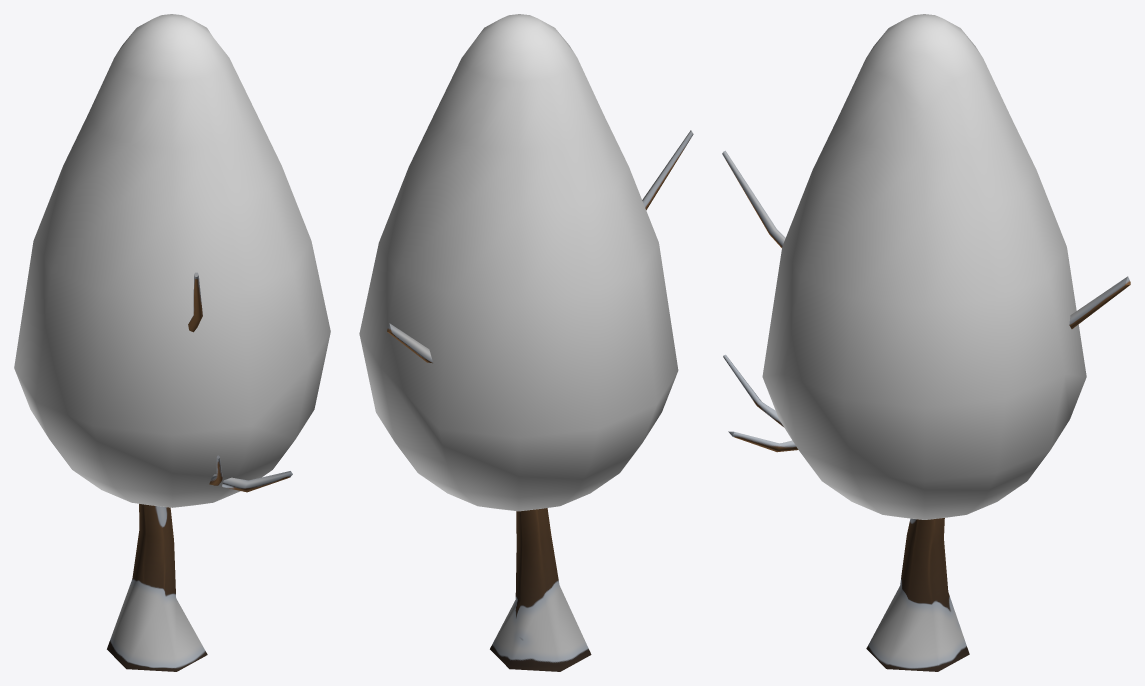
File: Tree_B_1.fbx
3 renders of one model, left to right at view 1: azimuth 30°, elevation 25°; view 2: azimuth 150°, elevation 25°; view 3: azimuth 270°, elevation 25°, orthographic. The views are drawn at different scales.
Parts seen in each view (by area): view 1: Tree_B_1; view 2: Tree_B_1; view 3: Tree_B_1.
Boxes of the visible parts, x1=… form: Tree_B_1: x1=14, y1=14, x2=330, y2=671; Tree_B_1: x1=359, y1=14, x2=693, y2=671; Tree_B_1: x1=722, y1=14, x2=1130, y2=671.
Bounding box in the file's own units: 128 × 280 × 162.
2 materials, 1 textured.
